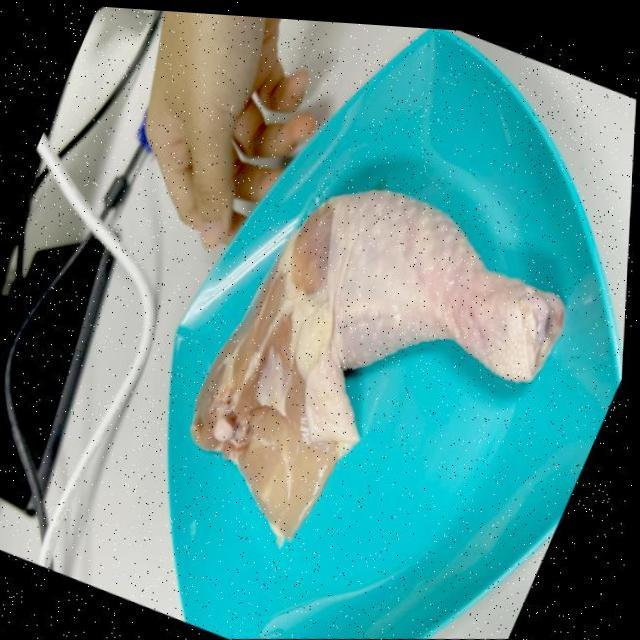quater: (188, 179, 574, 510)
